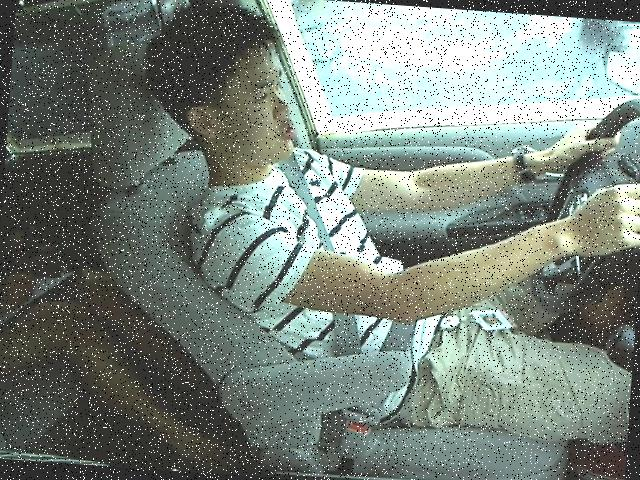c0 - Safe Driving: (116, 0, 639, 353)
